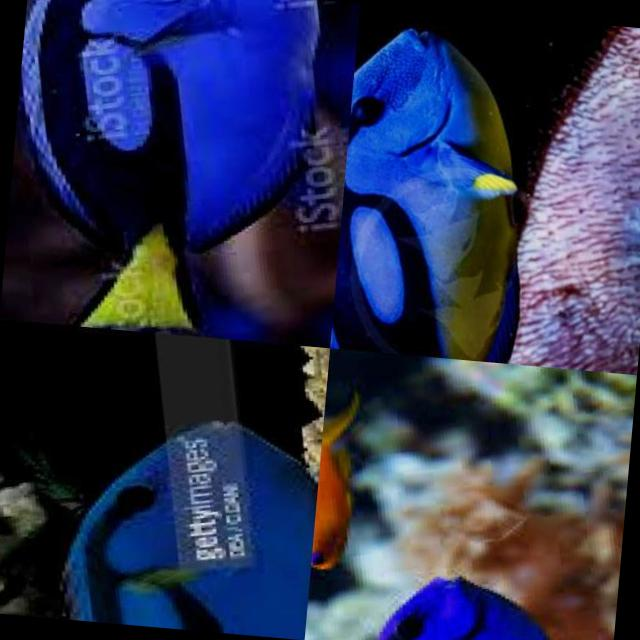BlueTang: (0, 0, 360, 347), (330, 2, 638, 372), (7, 329, 329, 640), (304, 451, 627, 640)
